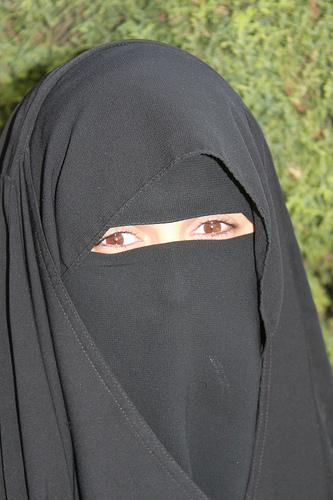OK: (71, 195, 258, 370)
